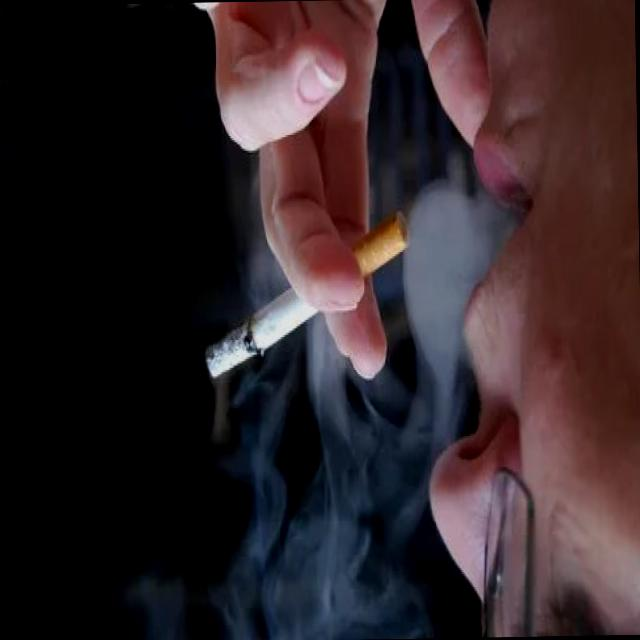smoke: (198, 190, 416, 386)
